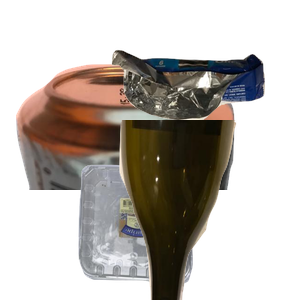glass: (117, 120, 300, 300)
metal: (13, 61, 240, 241)
plastic: (76, 162, 264, 300)
trash: (109, 47, 300, 160)
